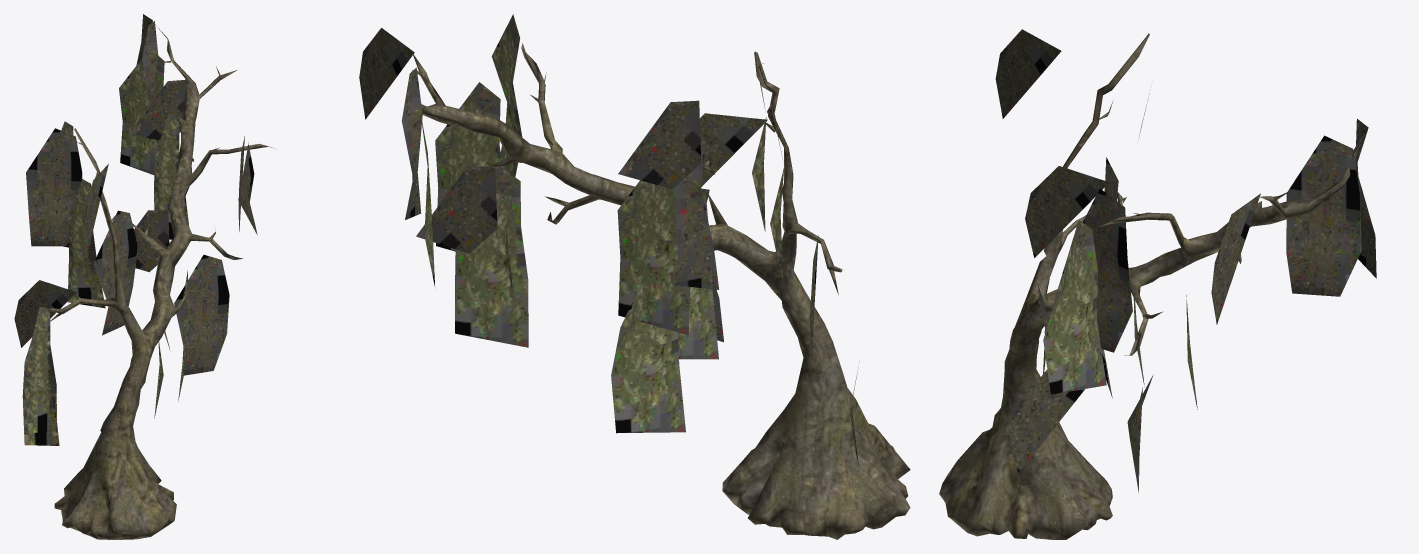
Rendered from swamp-tree-b-mid.glb.
3 views of the same model, side by side, from view 1: azimuth 30°, elevation 25°; view 2: azimuth 150°, elevation 25°; view 3: azimuth 270°, elevation 25° (orthographic). The views are drawn at different scales.
Visible parts, largest first — view 1: swamp_tree_b_LOD0; view 2: swamp_tree_b_LOD0; view 3: swamp_tree_b_LOD0.
Boxes of the visible parts, x1,y1,x2,y2 form: swamp_tree_b_LOD0: (14, 14, 274, 539); swamp_tree_b_LOD0: (359, 14, 910, 539); swamp_tree_b_LOD0: (939, 29, 1376, 539).
Size of the model in its own units: 8.63 by 9.47 by 7.95.
1 material, 1 textured.
